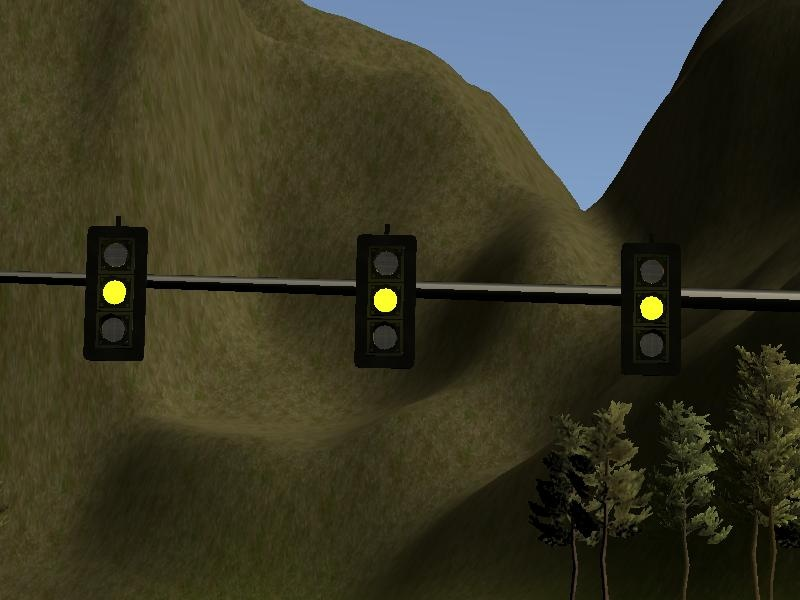YELLOW: (353, 234, 417, 371), (83, 225, 147, 362), (618, 241, 681, 378)
